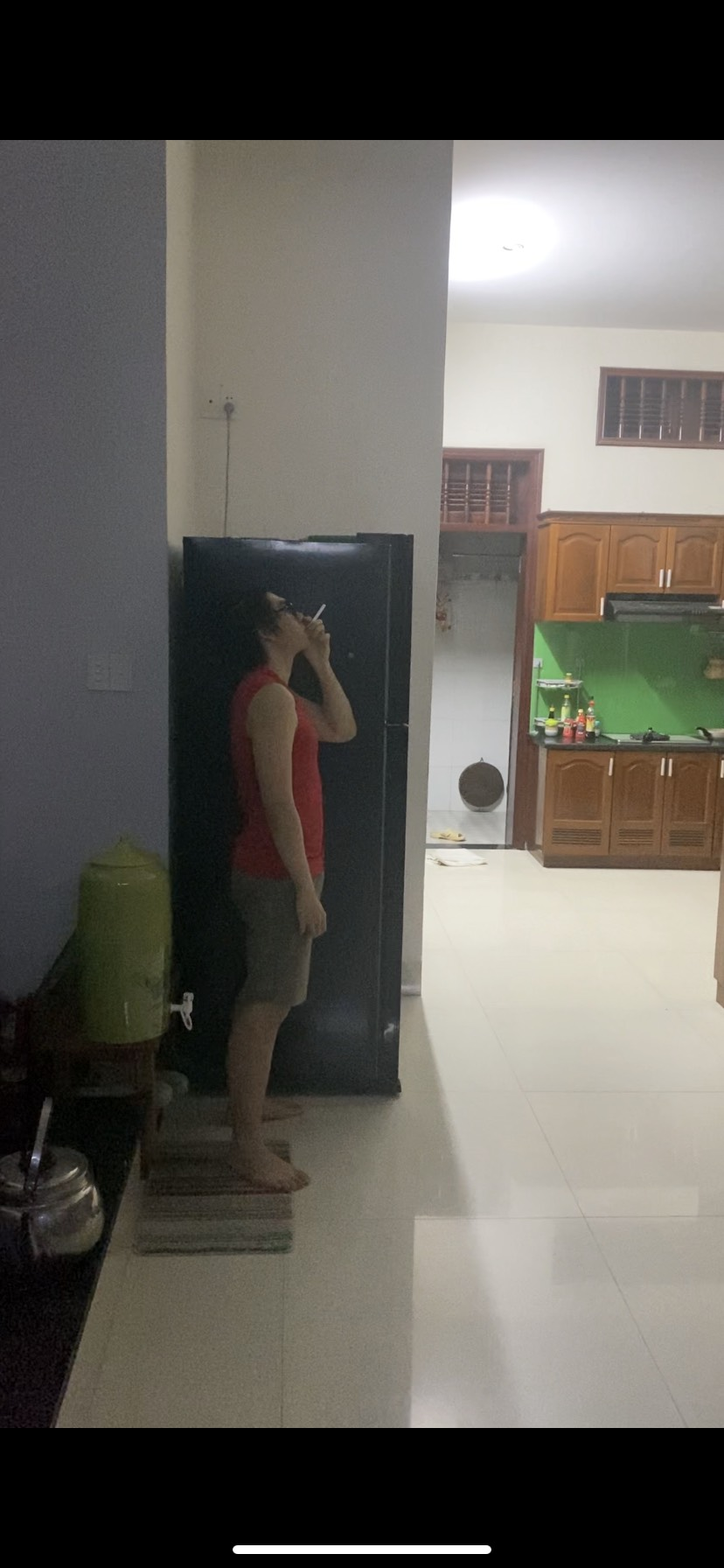cigarette: (312, 600, 330, 622)
person: (223, 574, 354, 1197)
